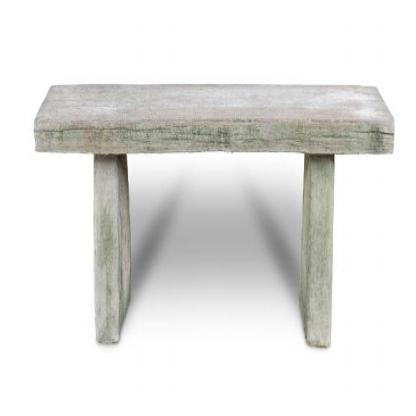Metamorphic_Marble: (27, 60, 407, 150), (81, 156, 147, 341), (300, 154, 348, 352)
